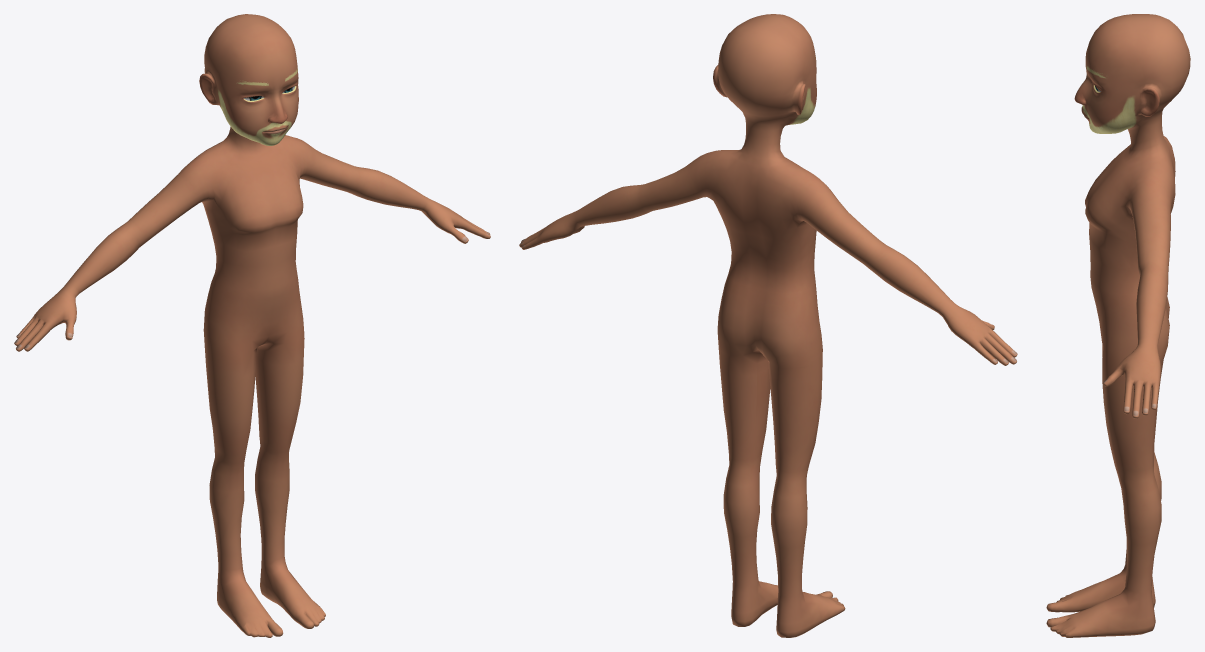
The model's file is frame_0029.glb.
3 views of the same model, side by side, from view 1: azimuth 30°, elevation 25°; view 2: azimuth 150°, elevation 25°; view 3: azimuth 270°, elevation 25° (orthographic). The views are drawn at different scales.
Visible parts, largest first — view 1: frame_0029_head_geo; view 2: frame_0029_head_geo; view 3: frame_0029_head_geo.
Part boxes in pixels (bbox=[...]): frame_0029_head_geo: bbox=[14, 14, 490, 637]; frame_0029_head_geo: bbox=[519, 14, 1017, 637]; frame_0029_head_geo: bbox=[1046, 14, 1190, 637].
Bounding box in the file's own units: 1.28 × 1.5 × 0.3253.
Materials: 3 (3 with a texture image).
